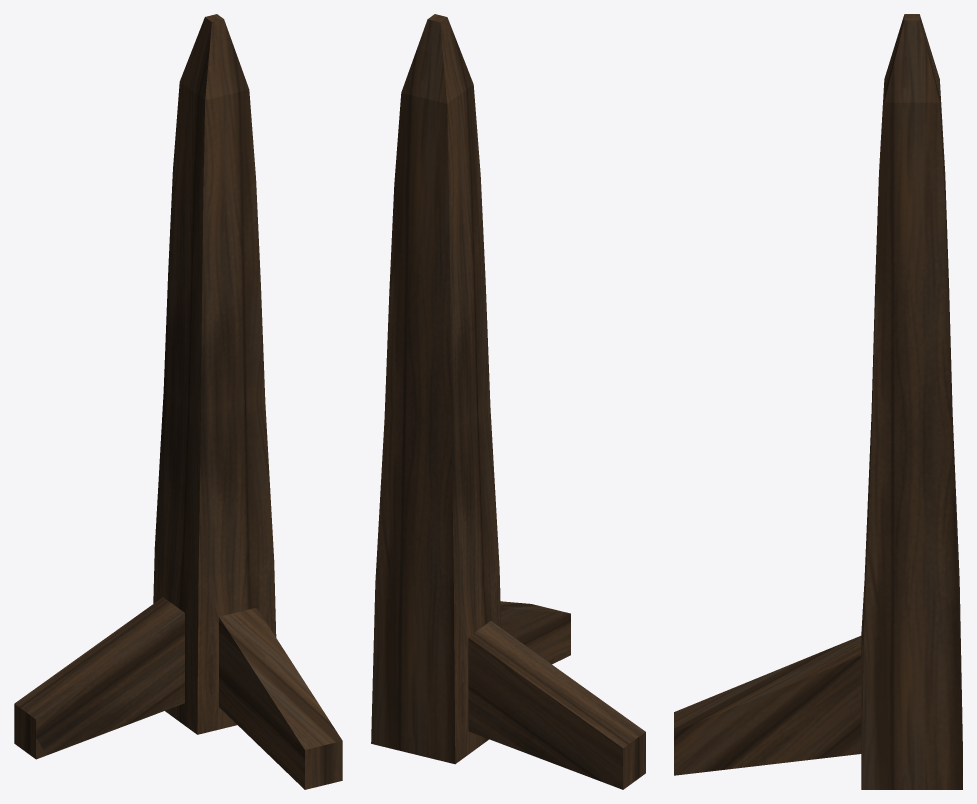
File: Star_Post_Final.obj
3 views of the same model, side by side, from view 1: azimuth 30°, elevation 25°; view 2: azimuth 150°, elevation 25°; view 3: azimuth 270°, elevation 25° (orthographic). The views are drawn at different scales.
Parts seen in each view (by area): view 1: light_post; view 2: light_post; view 3: light_post.
Part boxes in pixels (left/top/right/bottom): light_post: left=14, top=14, right=342, bottom=789; light_post: left=371, top=14, right=645, bottom=789; light_post: left=674, top=14, right=962, bottom=789.
Bounding box in the file's own units: 21.31 × 61.14 × 21.31.
